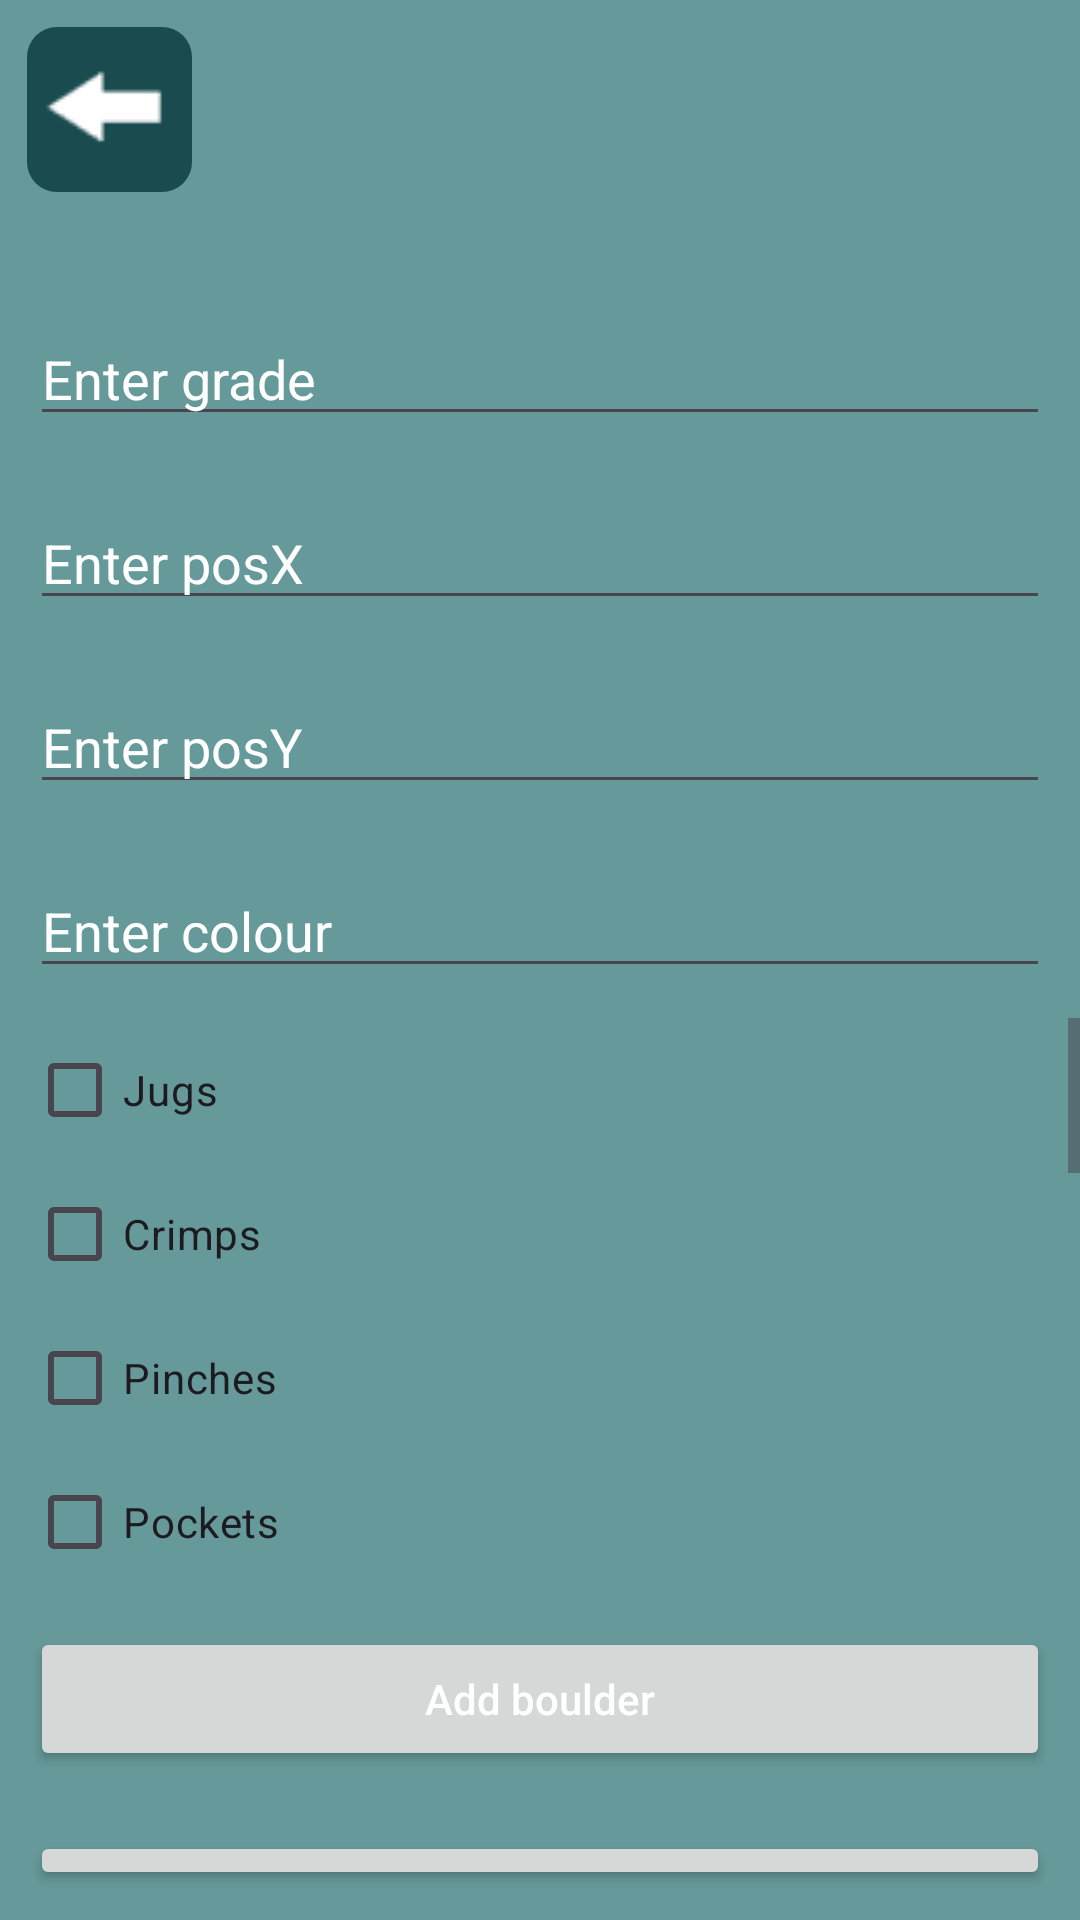

Screen size 1080px×1920px. Icon name, then its center in pixels as (x=x, y=y):
go back: (x=109, y=109)
